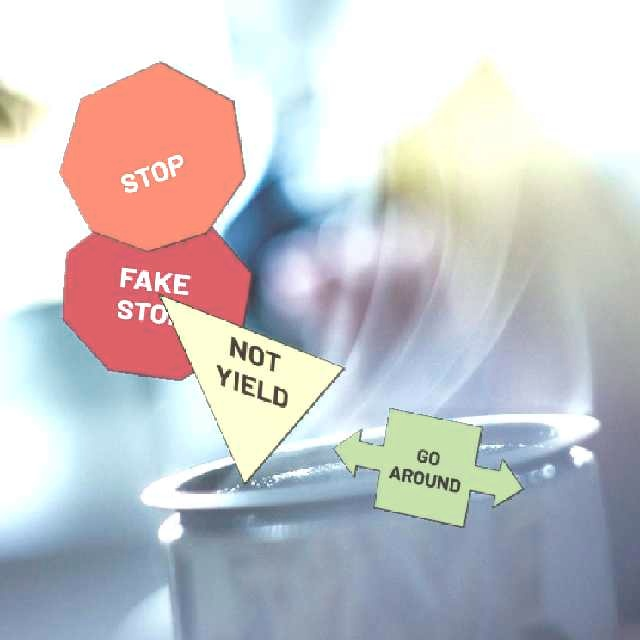FAKE_STOP: (60, 206, 252, 380)
GO_AROUND: (331, 406, 523, 527)
NOT_YIELD: (157, 292, 344, 484)
STOP: (57, 59, 245, 251)
